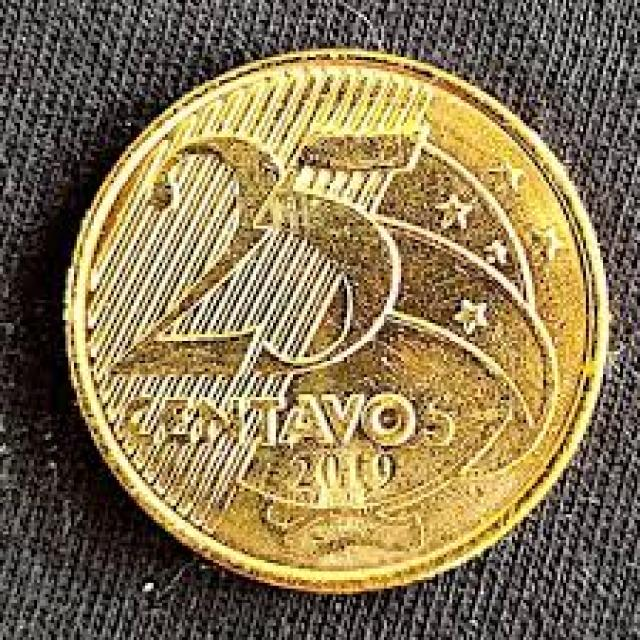25 cent: (66, 41, 609, 592)
